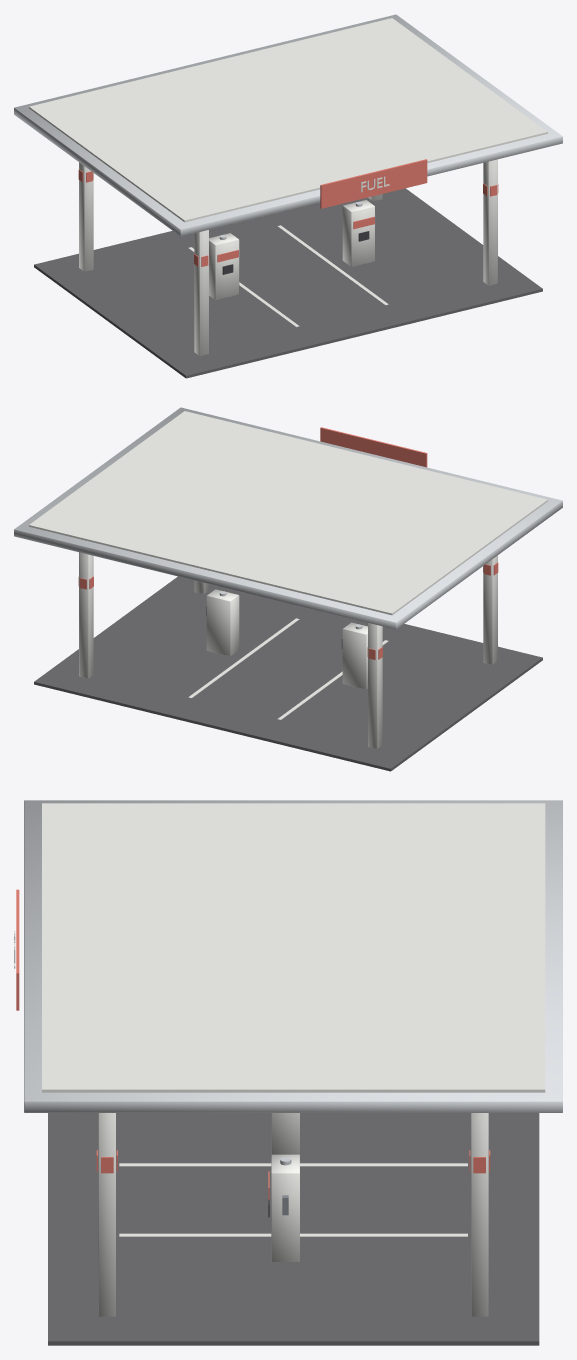
File: GasCanopy.fbx
The picture shows the model from 3 angles, top to bottom: view 1: azimuth 30°, elevation 25°; view 2: azimuth 150°, elevation 25°; view 3: azimuth 270°, elevation 25°; orthographic projection. The views are drawn at different scales.
Parts seen in each view (by area): view 1: LOD0; view 2: LOD0; view 3: LOD0.
Part boxes in pixels (x1,y1,x2,y2): LOD0: [14, 14, 562, 378]; LOD0: [14, 407, 562, 771]; LOD0: [14, 800, 562, 1345].
Size of what is drawn, in the model's own units: 900 by 381 by 693.
